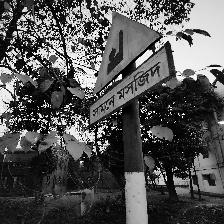Mosque in front: (89, 10, 175, 128)
